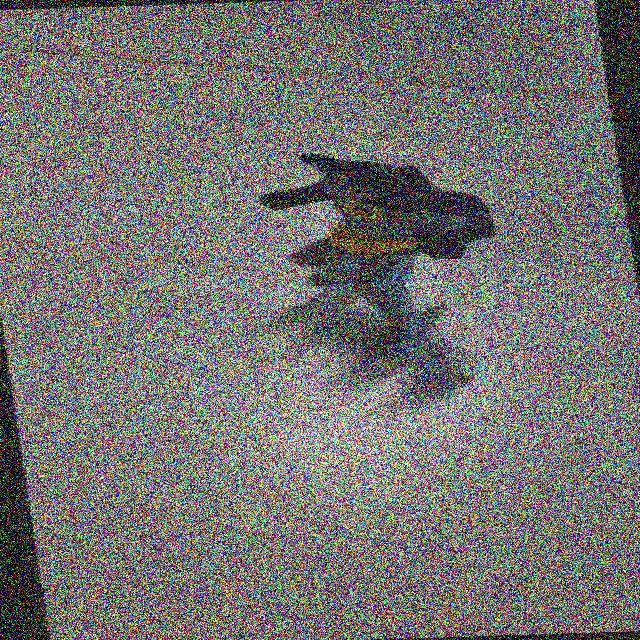Batman: (209, 135, 546, 393)
